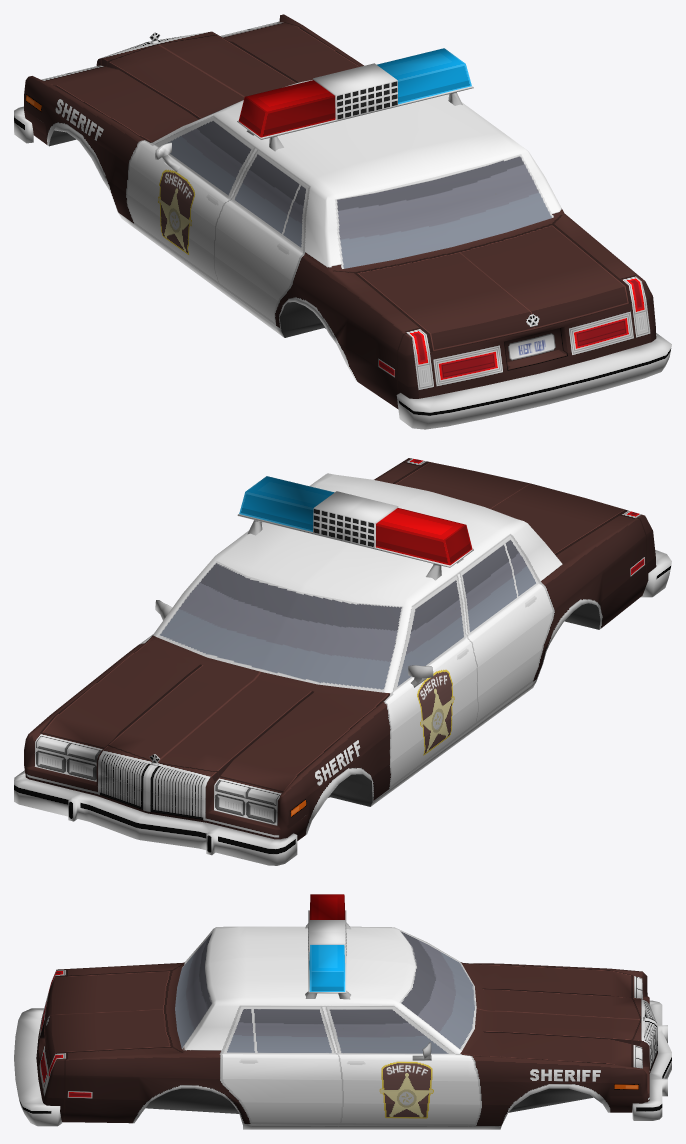
Rendered from 82lebaronpolice.fbx.
3 views of the same model, one above another, from view 1: azimuth 30°, elevation 25°; view 2: azimuth 150°, elevation 25°; view 3: azimuth 270°, elevation 25° (orthographic). The views are drawn at different scales.
Visible parts, largest first — view 1: 82lebaron; view 2: 82lebaron; view 3: 82lebaron.
Part boxes in pixels (box(x1,y1,x2,y2)): 82lebaron: box(14, 14, 671, 429); 82lebaron: box(14, 458, 671, 865); 82lebaron: box(14, 894, 671, 1129).
Size of the model in its own units: 2.07 by 1.35 by 5.36.
